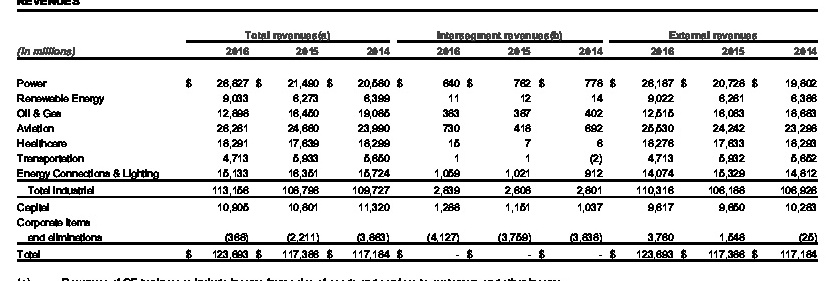table: (0, 0, 835, 281)
